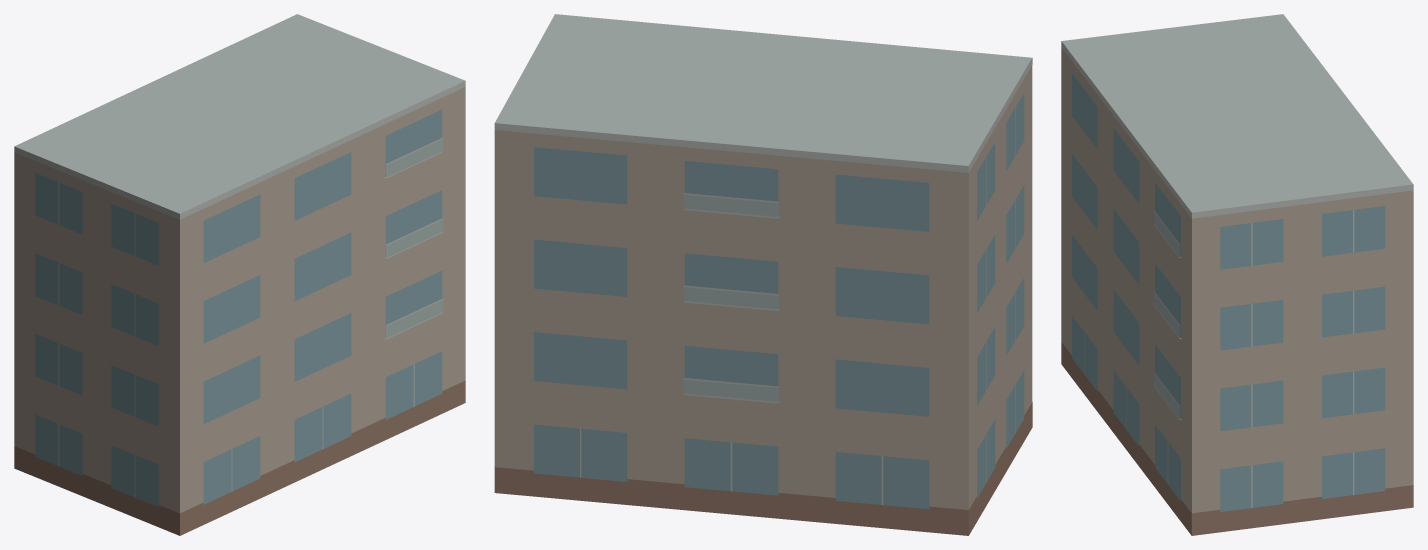
Rendered from survey-upis-32951636.glb.
The picture shows the model from 3 angles, left to right: view 1: azimuth 30°, elevation 25°; view 2: azimuth 150°, elevation 25°; view 3: azimuth 270°, elevation 25°; orthographic projection. The views are drawn at different scales.
Visible parts, largest first — view 1: survey-upis-32951636.tmp; view 2: survey-upis-32951636.tmp; view 3: survey-upis-32951636.tmp.
Part boxes in pixels (bbox=[...]): survey-upis-32951636.tmp: bbox=[14, 14, 465, 535]; survey-upis-32951636.tmp: bbox=[494, 14, 1032, 535]; survey-upis-32951636.tmp: bbox=[1061, 14, 1413, 535].
Size of the model in its own units: 17.42 by 13.2 by 13.05.
